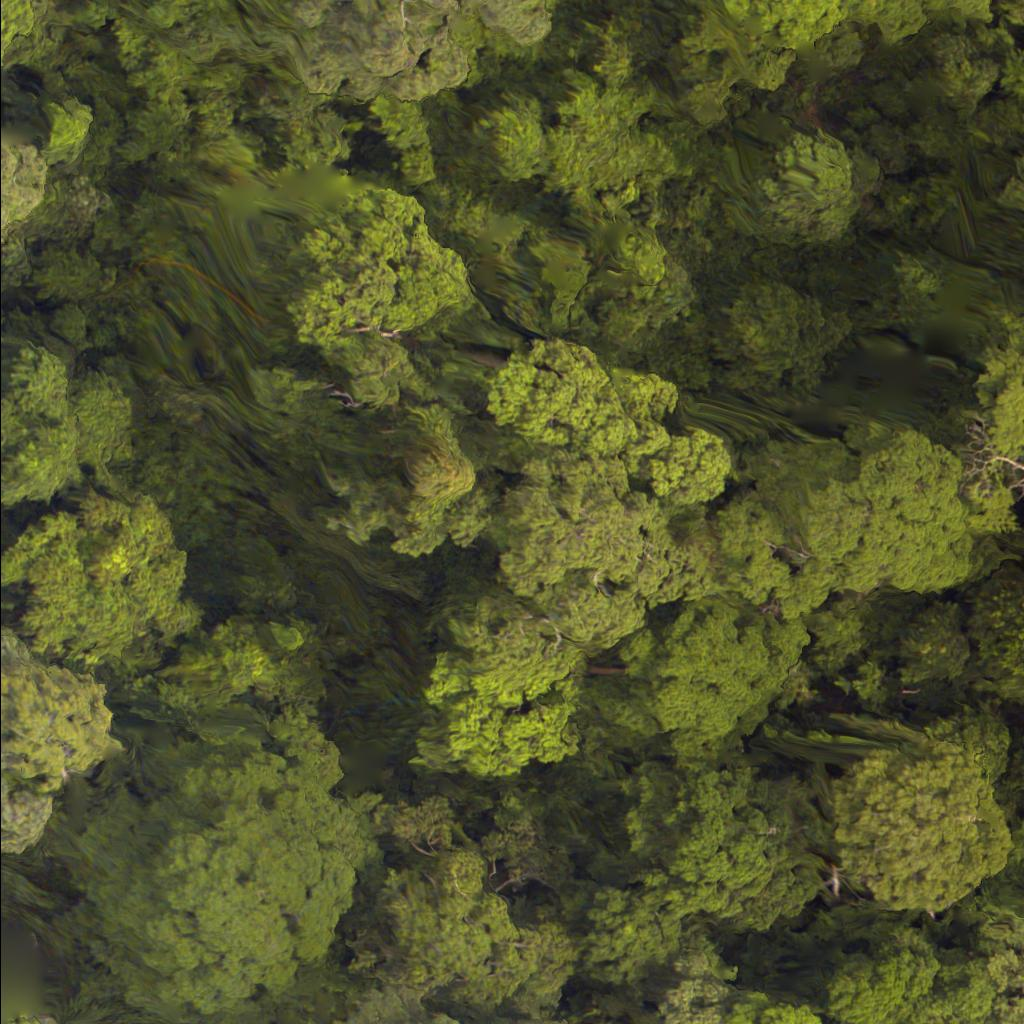crown: (48, 722, 360, 1023), (488, 334, 736, 651), (714, 437, 989, 604), (352, 847, 570, 1015), (622, 758, 817, 930), (282, 197, 478, 357), (2, 497, 186, 642), (437, 613, 575, 795), (0, 374, 142, 528), (634, 619, 809, 741), (0, 626, 125, 794), (570, 886, 734, 1000), (674, 0, 854, 65), (0, 147, 45, 253), (0, 763, 33, 839), (987, 957, 1023, 1023), (344, 1000, 443, 1023), (725, 999, 817, 1023)
